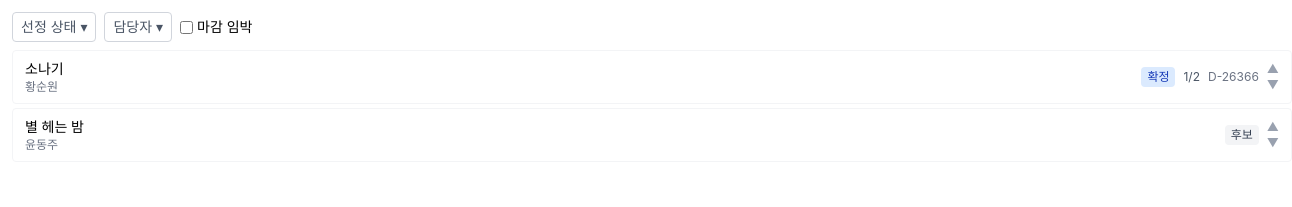
Test: 부가 없고 필터 결과가 0건이면 빈 문구가 하나만 보인다
The width and height of the screenshot is (1292, 207).
Click the button "선정 상태 ▾". click: point(54, 27)
box: x1=12 y1=12 x2=96 y2=42
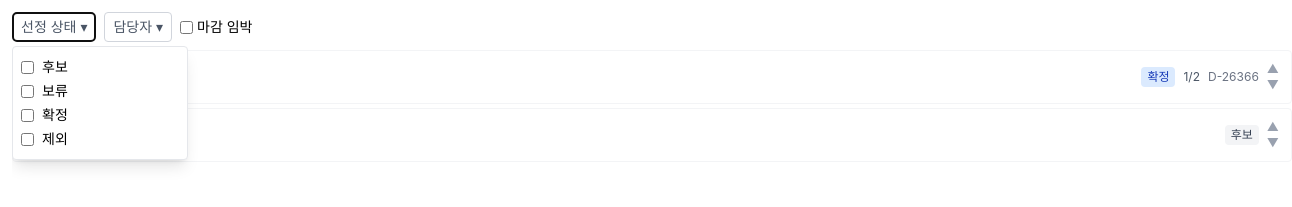
Click the checkbox labelled "보류". click: point(28, 91)
box: x1=21 y1=84 x2=34 y2=98
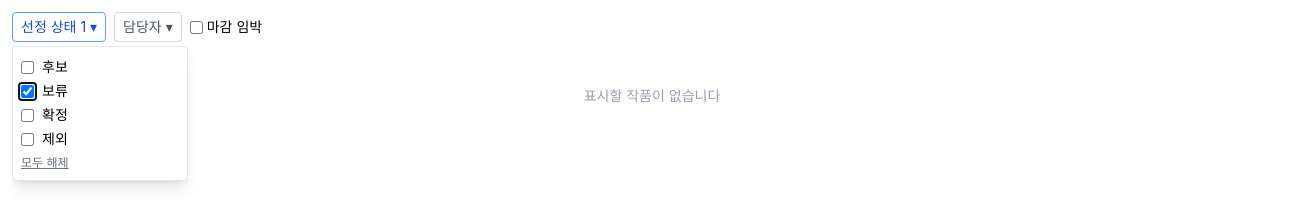
Result: the list item "표시할 작품이 없습니다" is shown at x1=584 y1=87 x2=720 y2=104
